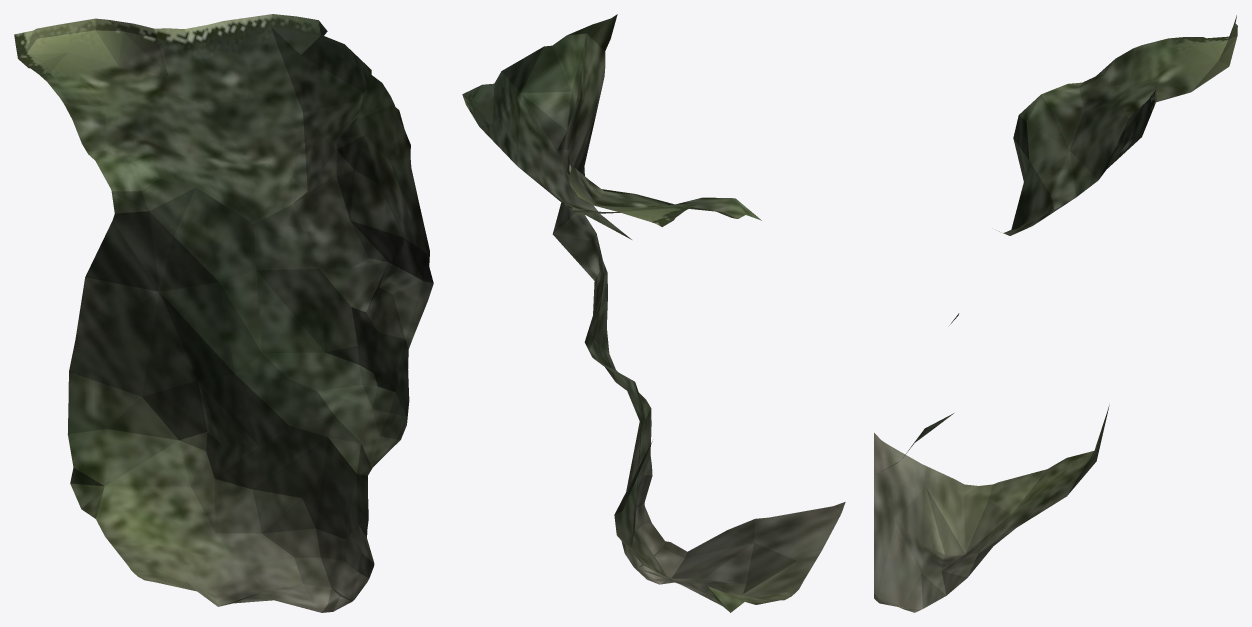
The picture shows the model from 3 angles, left to right: view 1: azimuth 30°, elevation 25°; view 2: azimuth 150°, elevation 25°; view 3: azimuth 270°, elevation 25°; orthographic projection. The views are drawn at different scales.
Bounding box in the file's own units: 2.1 × 4.07 × 2.58.
1 material, 1 textured.
